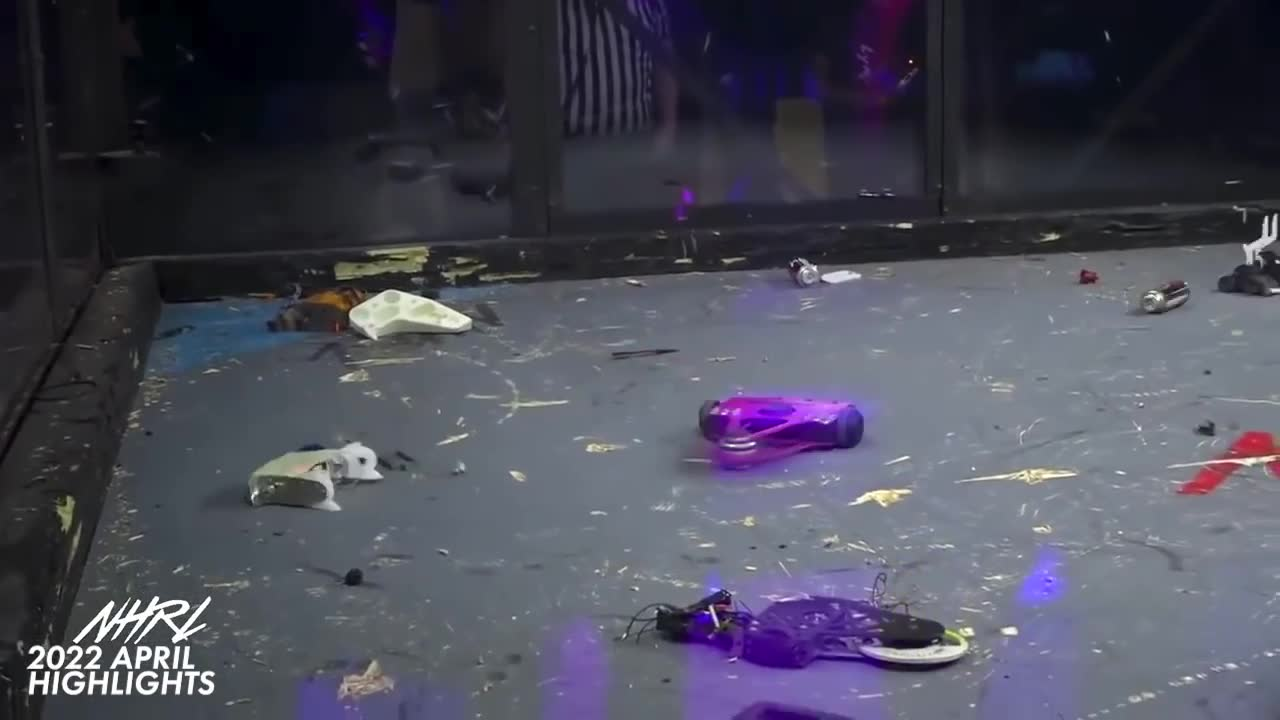combatbot: (653, 588, 972, 675), (693, 396, 864, 468), (243, 442, 385, 510), (348, 290, 473, 343), (1217, 205, 1280, 299), (269, 288, 372, 335), (1216, 243, 1280, 300)
debris: (783, 255, 861, 289), (1131, 280, 1192, 317), (611, 346, 679, 359), (1075, 267, 1102, 286)
